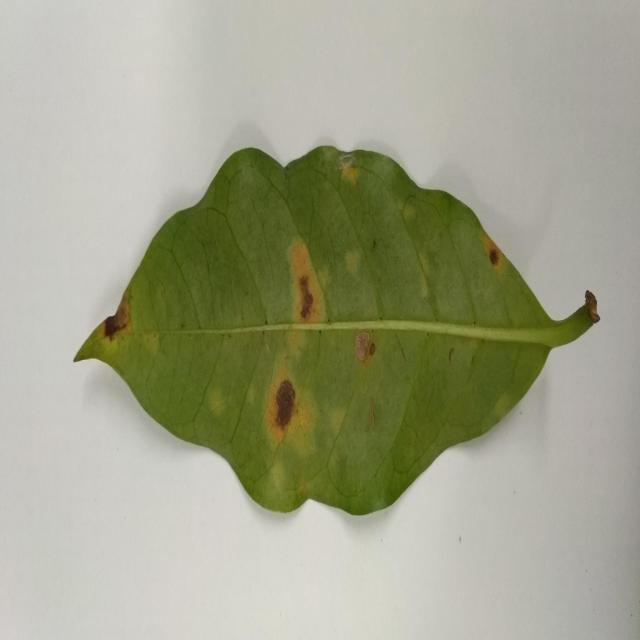Enfermedad-Roya: (75, 146, 602, 520)
